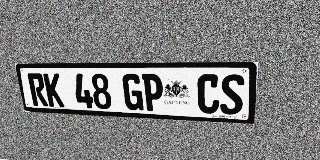4: (72, 73, 94, 108)
8: (90, 74, 112, 109)
C: (197, 74, 220, 114)
G: (122, 74, 144, 111)
K: (43, 73, 65, 107)
P: (142, 74, 164, 112)
R: (27, 73, 48, 106)
S: (220, 74, 245, 115)
